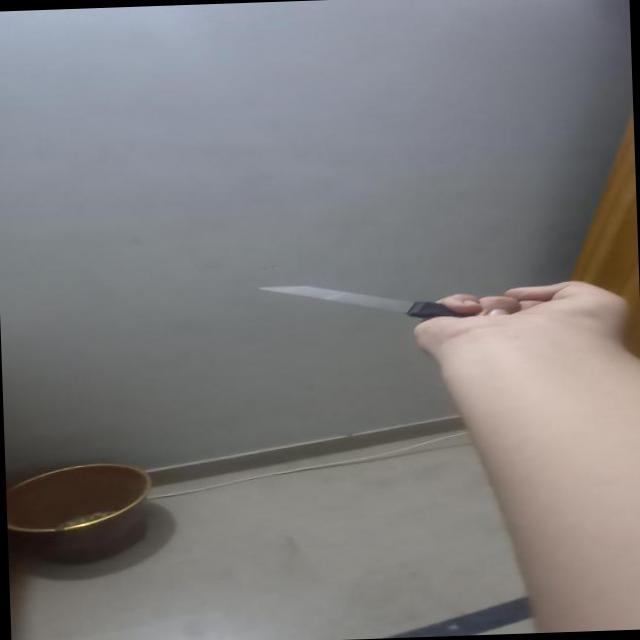Knife: (234, 269, 542, 327)
